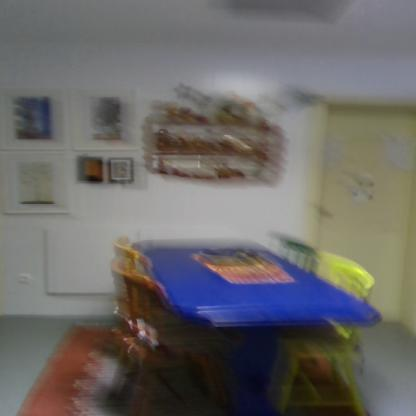door: (315, 105, 408, 324)
lever: (320, 210, 338, 221)
